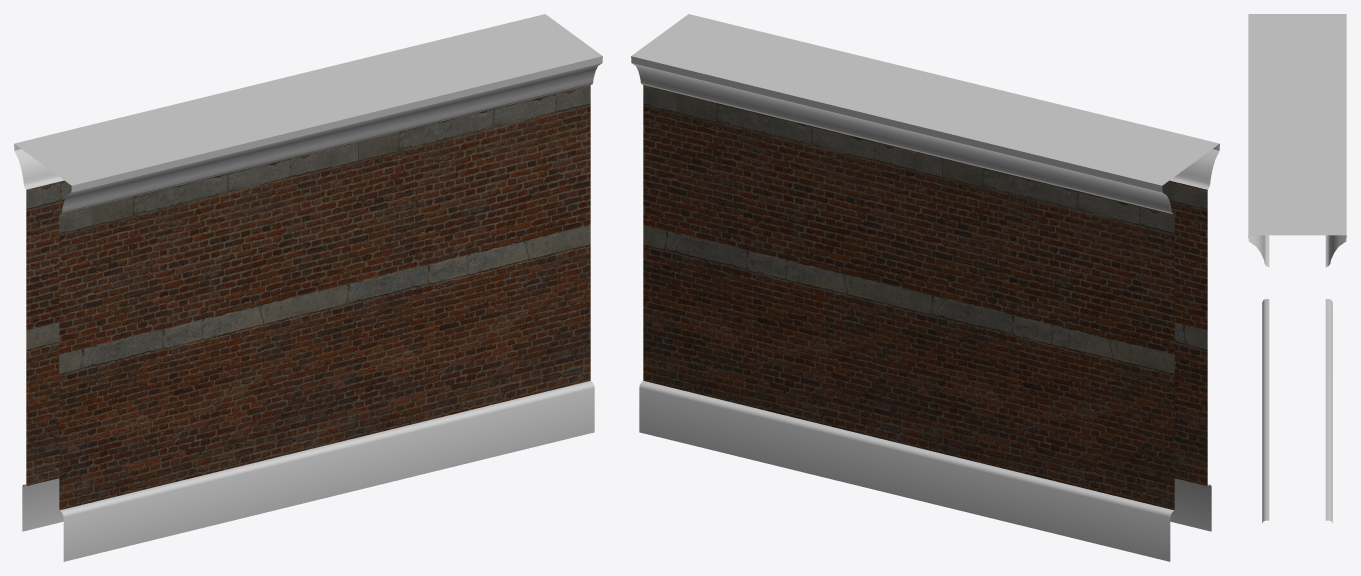
File: msp_tunnel_wall_end.fbx
3 views of the same model, side by side, from view 1: azimuth 30°, elevation 25°; view 2: azimuth 150°, elevation 25°; view 3: azimuth 270°, elevation 25° (orthographic). The views are drawn at different scales.
Parts seen in each view (by area): view 1: msp_tunnel_wall_end; view 2: msp_tunnel_wall_end; view 3: msp_tunnel_wall_end.
Boxes of the visible parts, x1,y1,x2,y2 form: msp_tunnel_wall_end: (14,14,602,561); msp_tunnel_wall_end: (631,14,1219,561); msp_tunnel_wall_end: (1248,14,1346,522).
Bounding box in the file's own units: 8 × 5.5 × 1.5.
